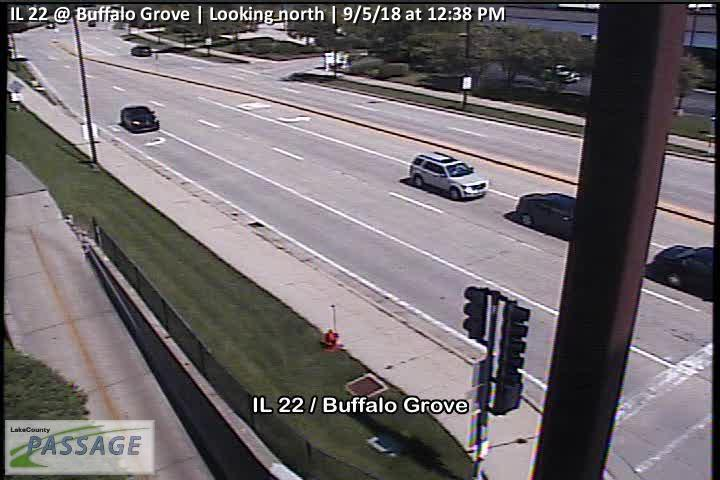SUV: (408, 152, 490, 201)
Sedan: (514, 192, 592, 241), (649, 244, 715, 292), (121, 105, 160, 134)
